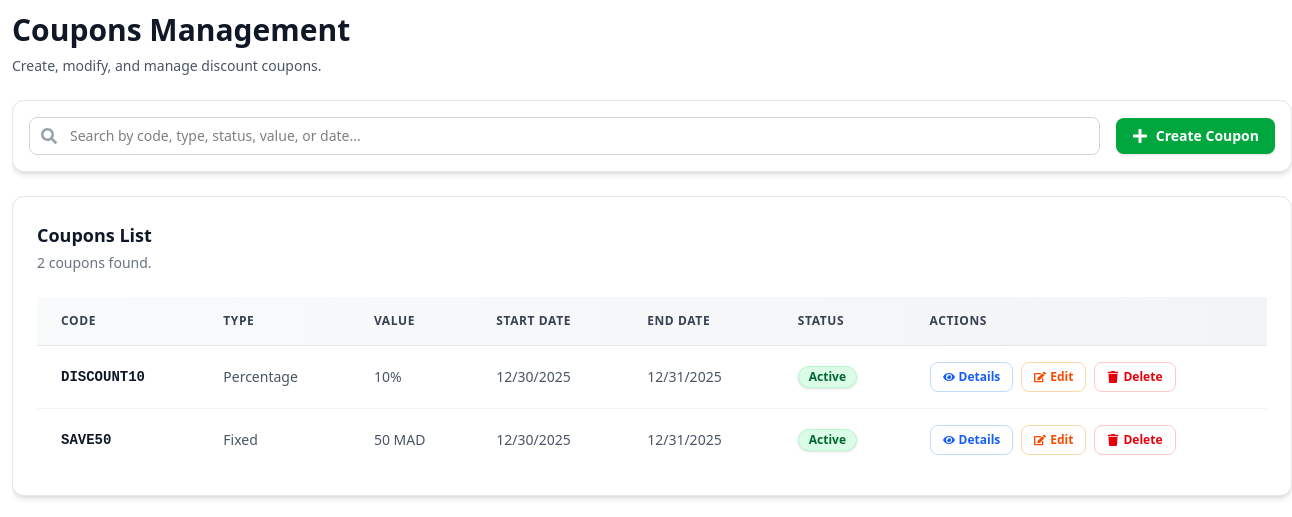
it: AdminCoupons › searches coupons by code
Type "DISCOUNT" into the field with placeholder "Search by code, type, status, value, or date..." at (564, 136), box [29,117,1100,155]
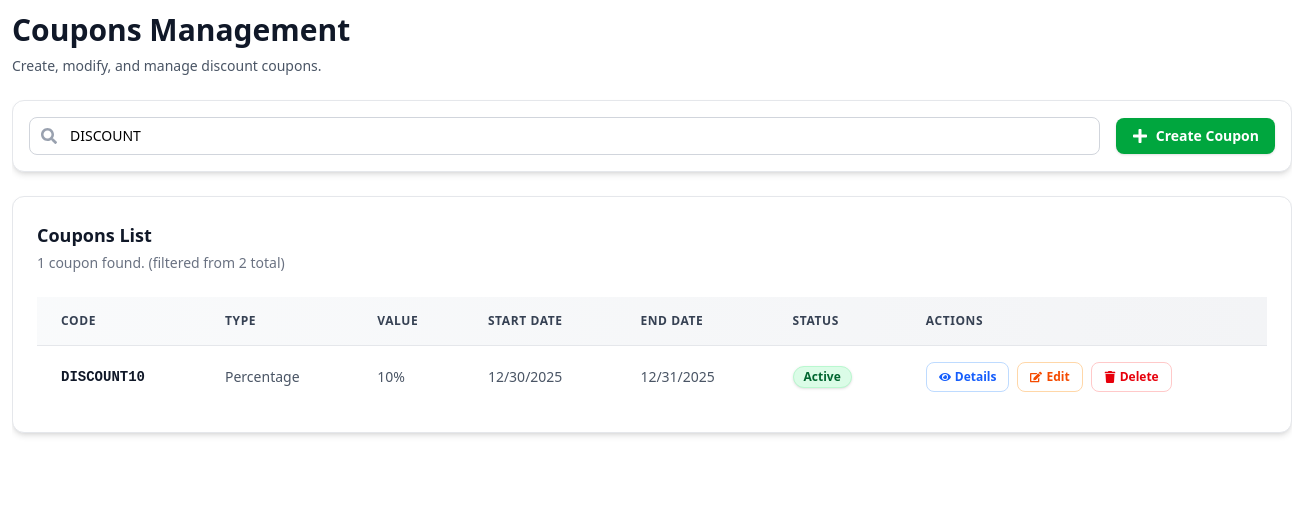
Expected: the text "DISCOUNT10" is shown, [61,369,145,385]
Now the text "SAVE50" is gone
